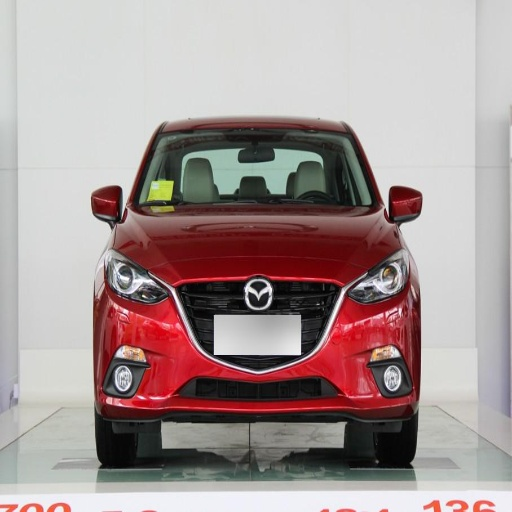back_right_light: (96, 261, 418, 423)
front_bumper: (134, 129, 377, 214)
front_left_door: (346, 254, 407, 303)
front_right_door: (102, 251, 167, 304)
front_right_light: (117, 204, 399, 285)
hood: (388, 185, 423, 225)
left_mirror: (91, 185, 122, 224)
trunk: (97, 417, 159, 466), (365, 416, 416, 466)
